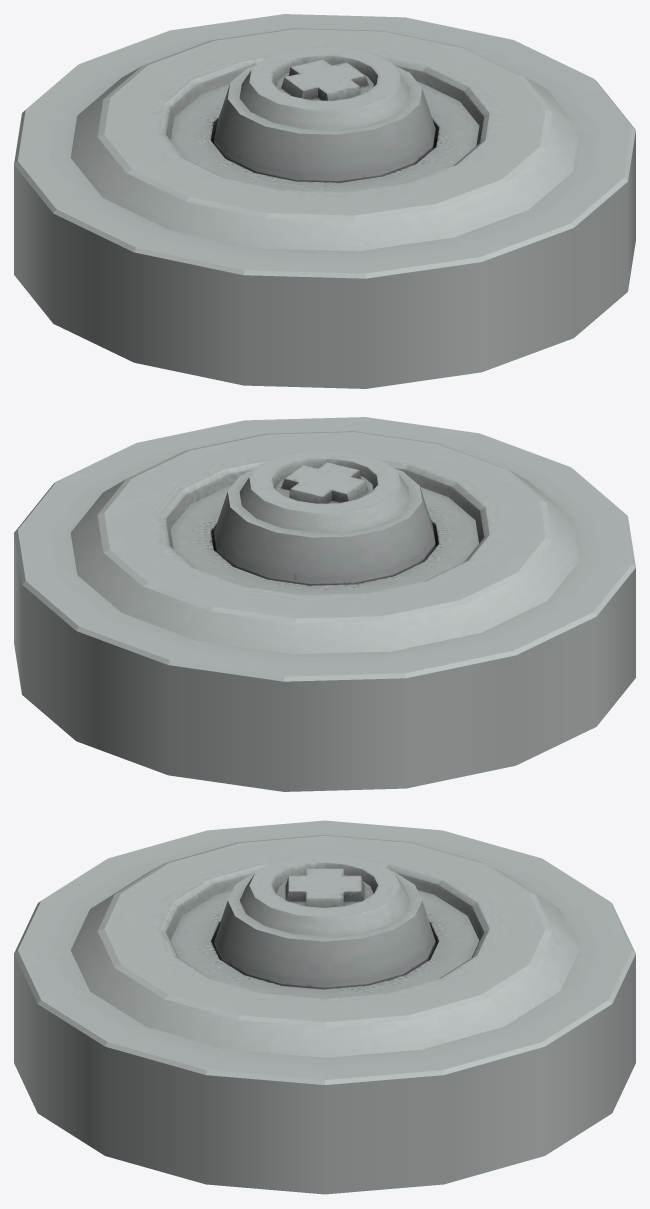
Rendered from item_landmine.glb.
The picture shows the model from 3 angles, top to bottom: view 1: azimuth 30°, elevation 25°; view 2: azimuth 150°, elevation 25°; view 3: azimuth 270°, elevation 25°; orthographic projection.
Visible parts, largest first — view 1: Landmine, LandminePlug; view 2: Landmine, LandminePlug; view 3: Landmine, LandminePlug.
Boxes of the visible parts, box(x1,y1,x2,y2) form: Landmine: box(14, 14, 635, 388); LandminePlug: box(214, 46, 435, 182); Landmine: box(14, 417, 635, 791); LandminePlug: box(214, 449, 435, 585); Landmine: box(14, 820, 635, 1194); LandminePlug: box(214, 853, 435, 988).
Bounding box in the file's own units: 0.5 × 0.1591 × 0.5.
1 material, 1 textured.
